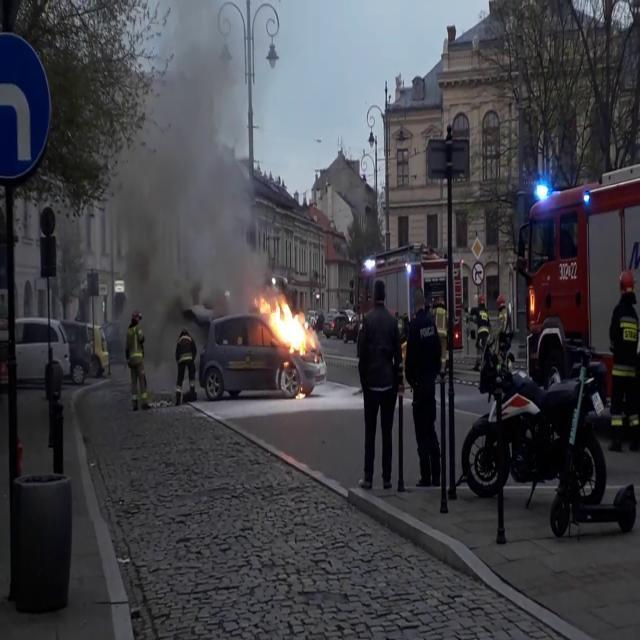Fire: (254, 284, 316, 361)
Smoke: (108, 3, 264, 340)
